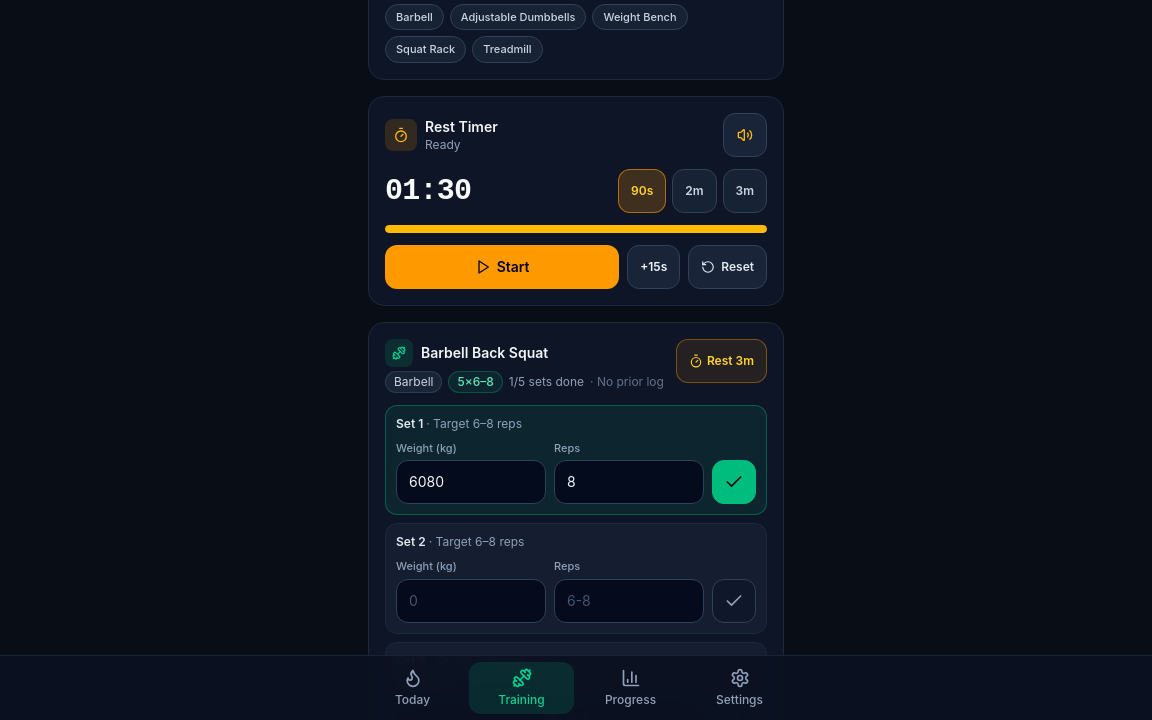
it: TrainingView, WorkoutLogger, TreadmillLogger & RestTimer › keeps RestTimer idle when navigating Off-Day -> Workday -> Off-Day after resetting a quick-started timer
(page scrolled)
Click the button with aria-label "Start 3m rest timer" at (721, 360), box [676,338,767,382]
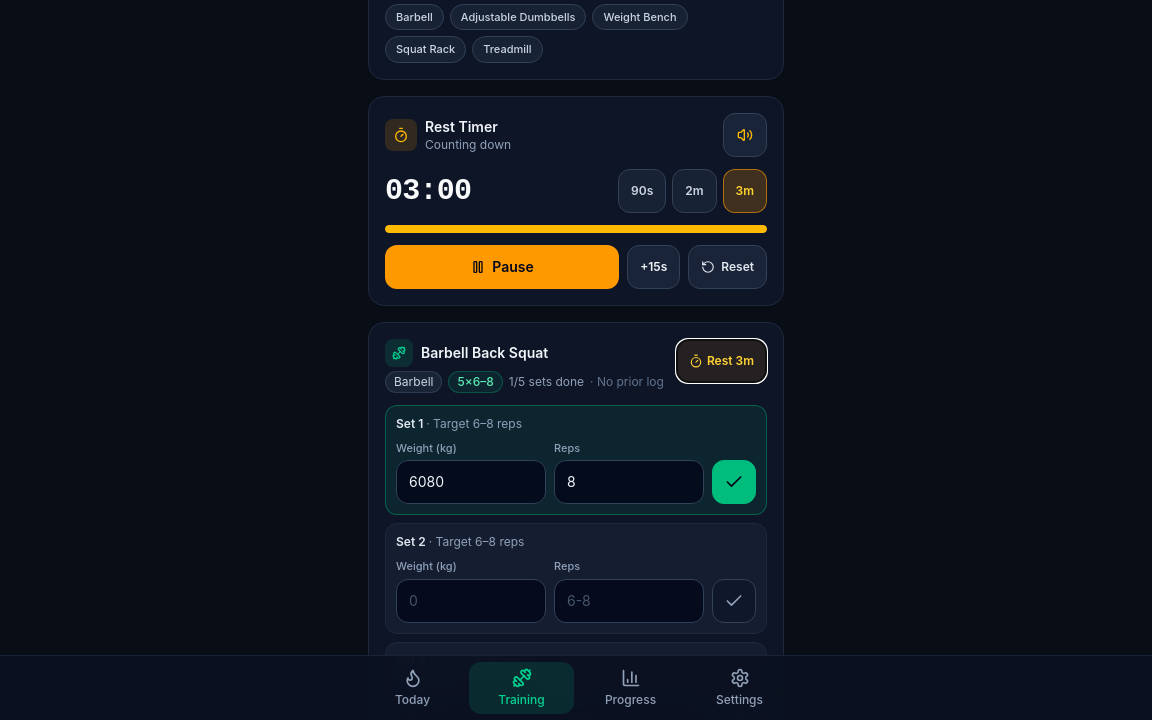
Check: the button "Pause" is shown, box [385,244,619,288]
Click the button with aria-label "Reset timer" at (728, 266), box [688,244,767,288]
(page scrolled)
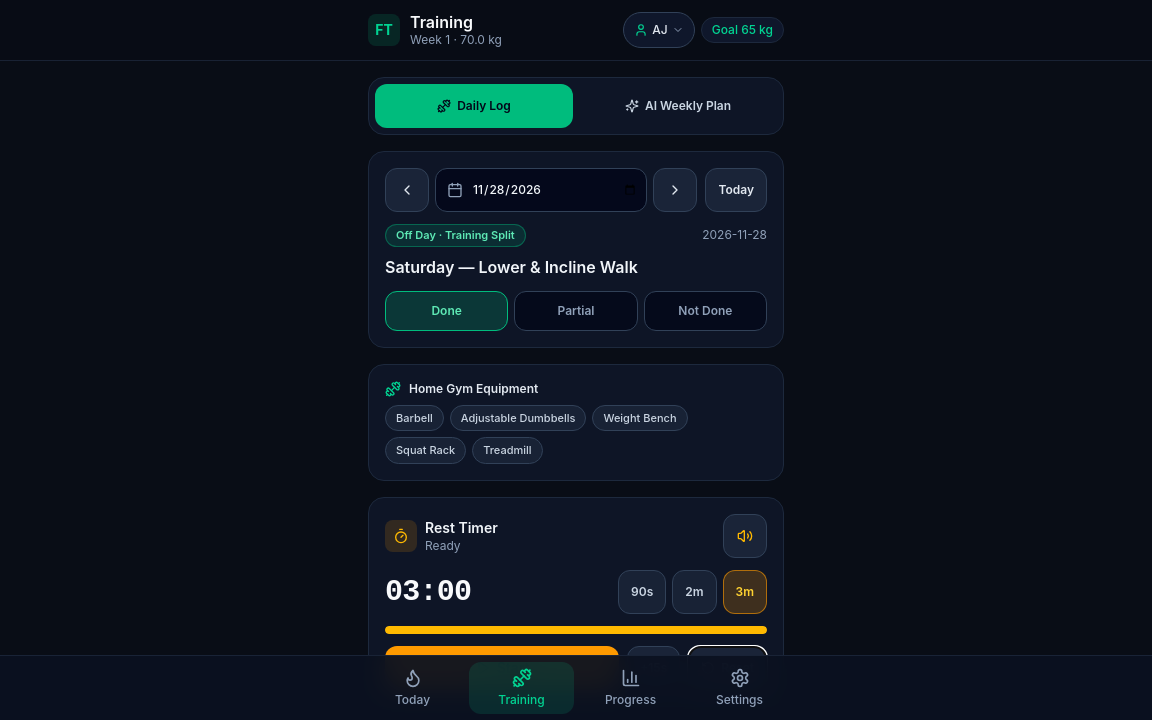
Check: the button "Start" is shown, box [385,646,619,690]
Note: Navigate to Tuesday (workday, unmounts RestTimer)
Type "2026-12-01" into the date field named "Training date" at (541, 190), box [435,168,648,212]
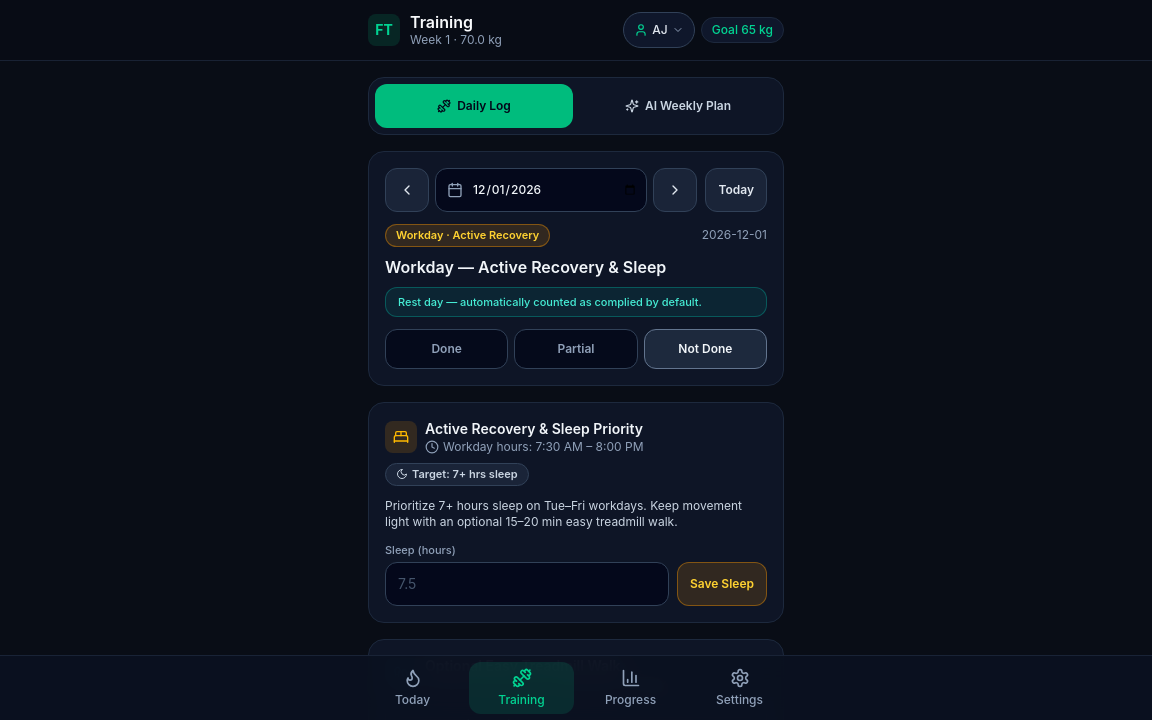
Check: the text "Workday · Active Recovery" is shown, box [385,224,550,246]
Check: the heading "Rest Timer" is gone
Note: Navigate back to Saturday (off-day, remounts RestTimer)
Type "2026-11-28" into the date field named "Training date" at (541, 190), box [435,168,648,212]
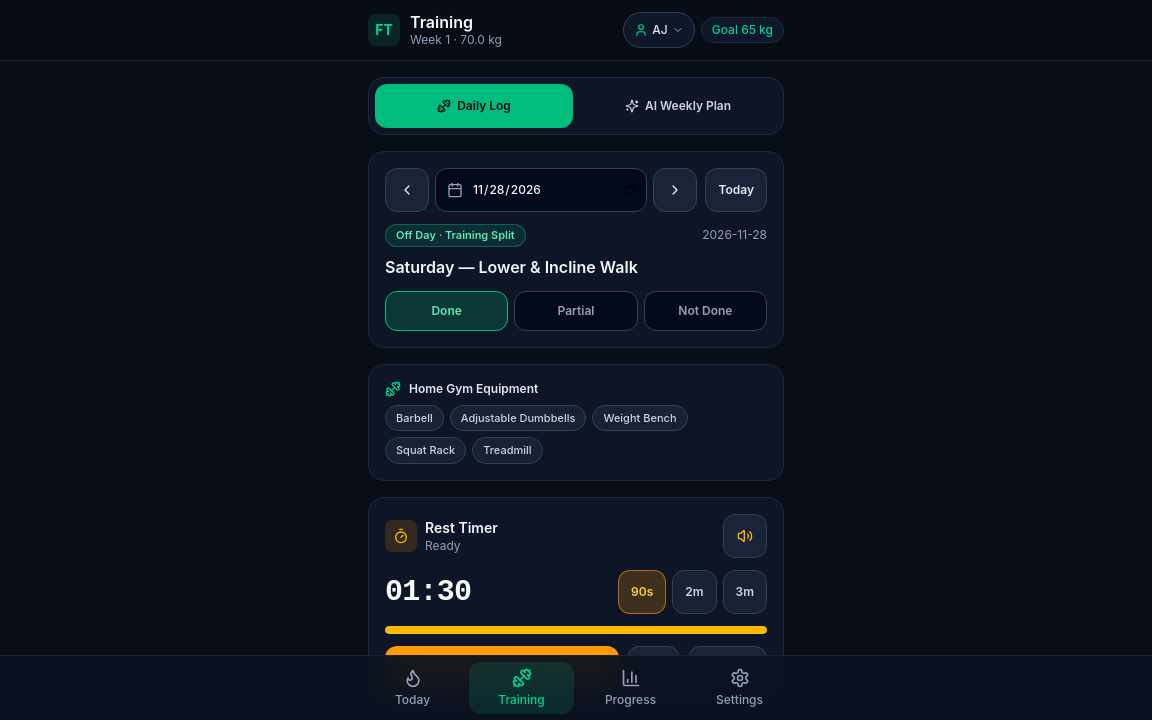
Check: the button "Pause" is not shown
Check: the button "Start" is shown, box [385,646,619,690]
